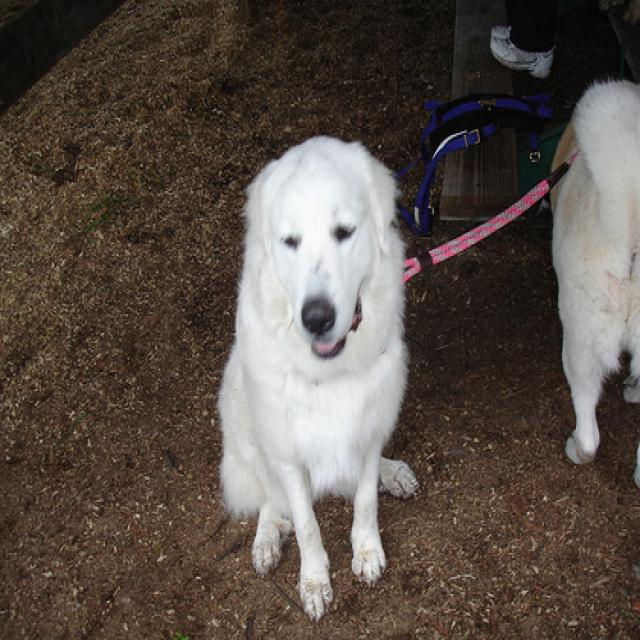dog-great_pyrenees: (210, 126, 424, 625)
